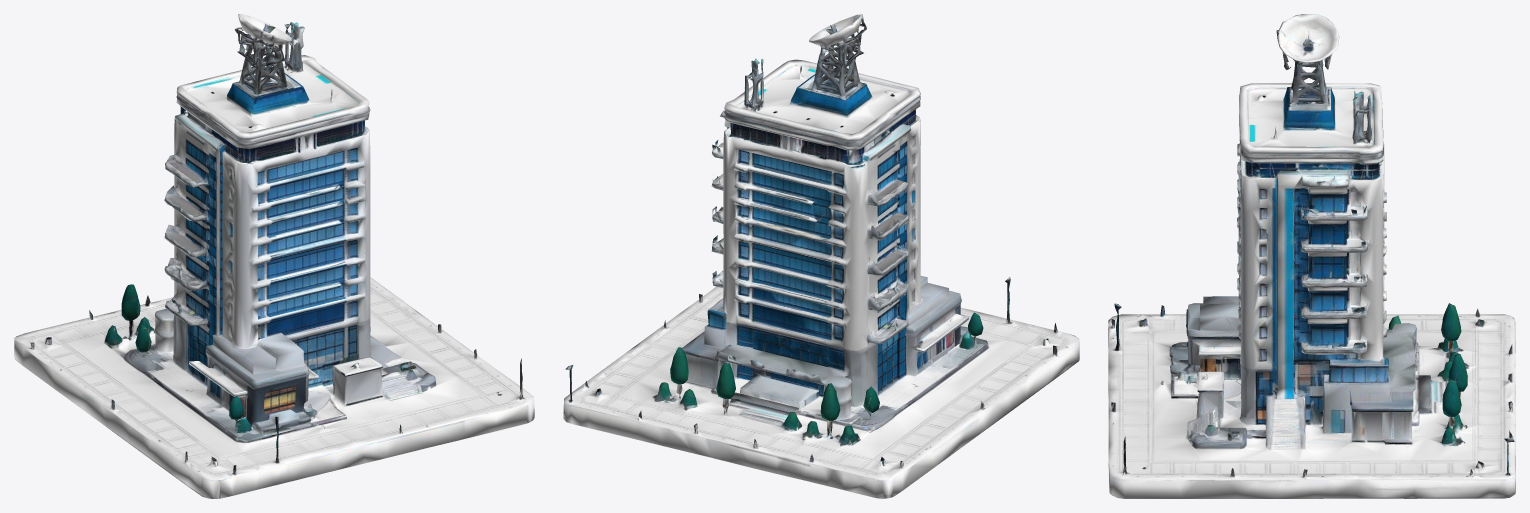
Rendered from tower.glb.
The picture shows the model from 3 angles, left to right: view 1: azimuth 30°, elevation 25°; view 2: azimuth 150°, elevation 25°; view 3: azimuth 270°, elevation 25°; orthographic projection. The views are drawn at different scales.
Visible parts, largest first — view 1: Mesh_0; view 2: Mesh_0; view 3: Mesh_0.
Boxes of the visible parts, <box> form: Mesh_0: <box>14,14,534,498</box>; Mesh_0: <box>563,14,1079,498</box>; Mesh_0: <box>1108,14,1515,498</box>.
Size of the model in its own units: 1.76 by 1.91 by 1.83.
1 material, 1 textured.
